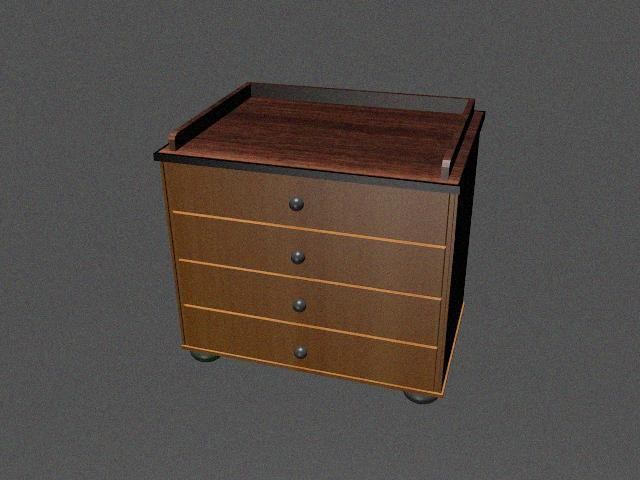cabinet_door: (172, 178, 449, 230), (178, 230, 444, 280), (182, 280, 440, 326), (188, 327, 436, 370)
handle: (284, 246, 314, 271), (287, 341, 314, 364), (286, 294, 314, 316), (284, 194, 311, 215)
